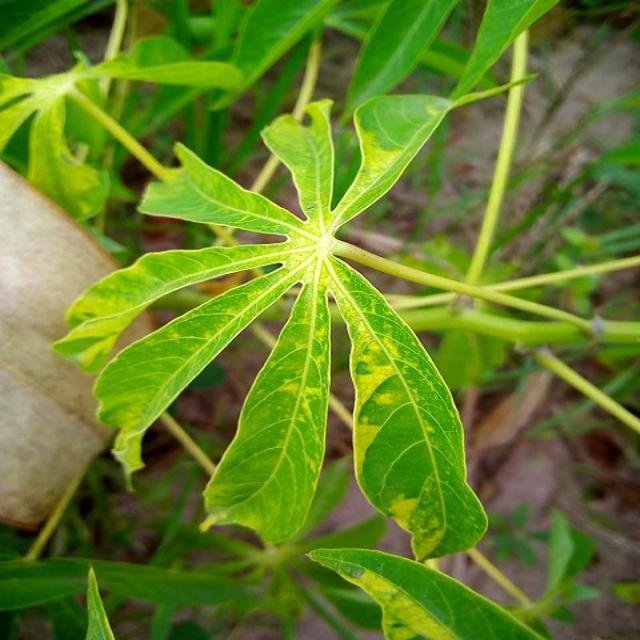Mosaico: (139, 99, 418, 446)
